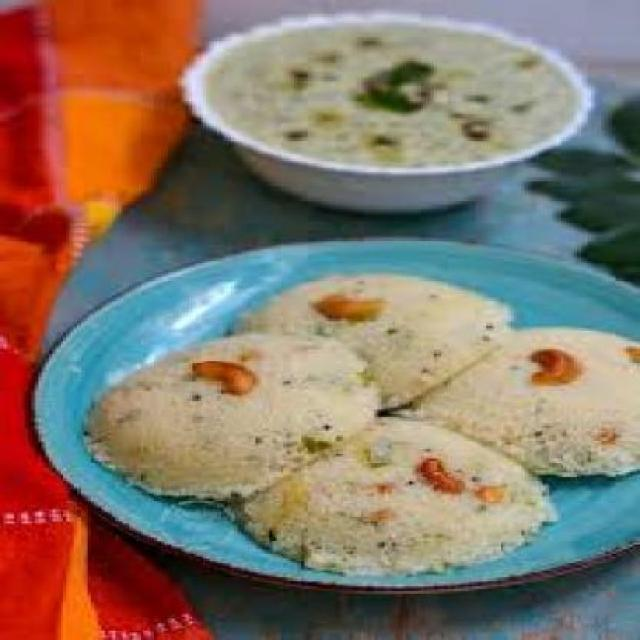idli: (243, 418, 557, 576), (85, 334, 380, 495), (228, 272, 509, 410), (400, 330, 640, 476)
